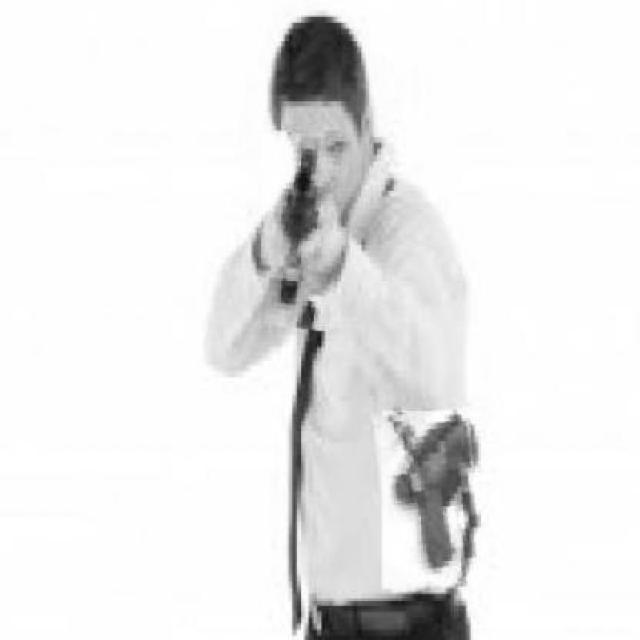non-violence: (204, 14, 475, 640)
weapon: (378, 410, 482, 592), (258, 132, 347, 330)
